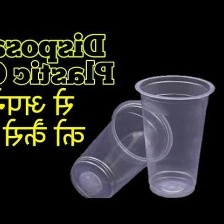glass: (128, 67, 220, 201), (67, 96, 175, 200)
